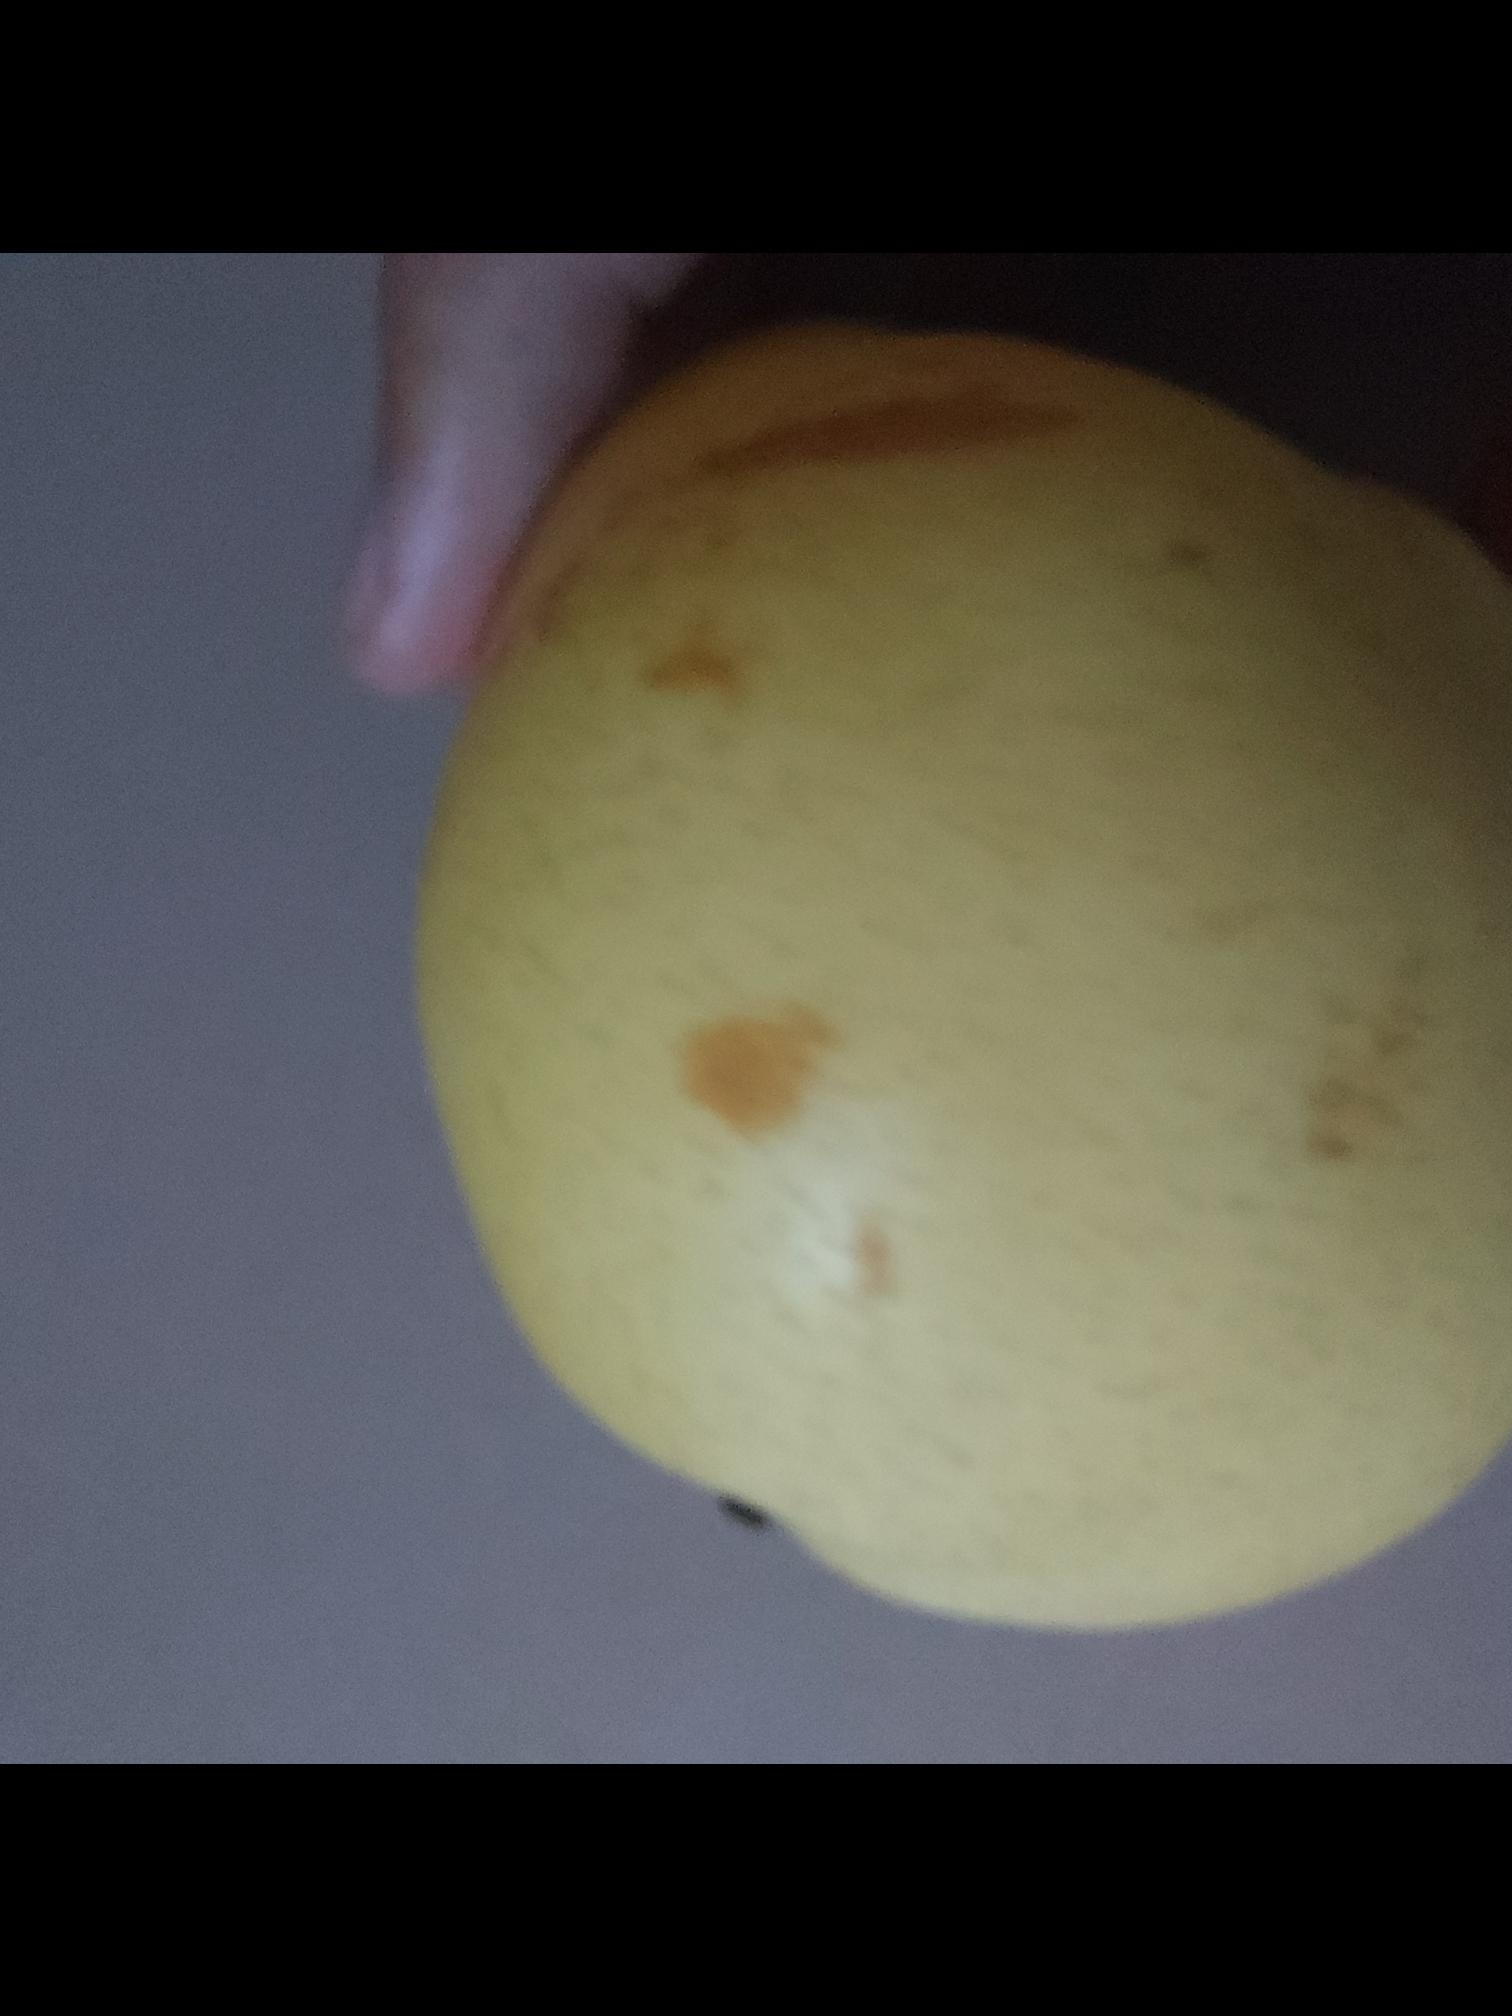Good Pear: (417, 328, 1512, 1645)
